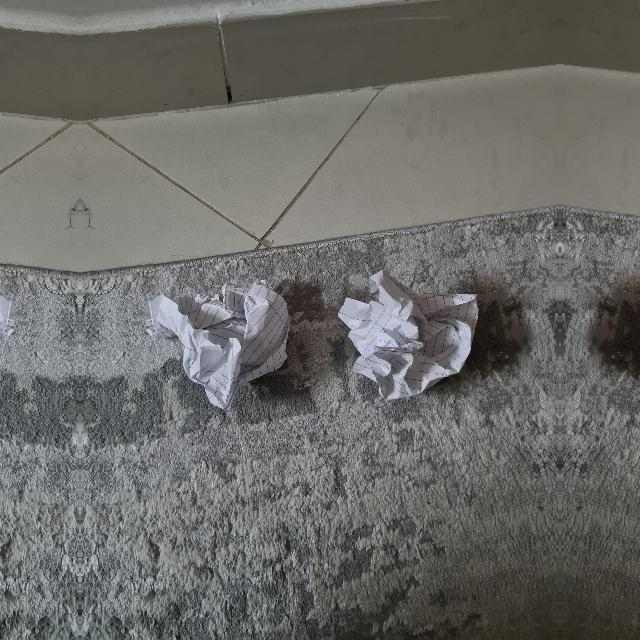paper: (150, 276, 294, 414), (339, 270, 478, 400), (0, 276, 9, 413)
